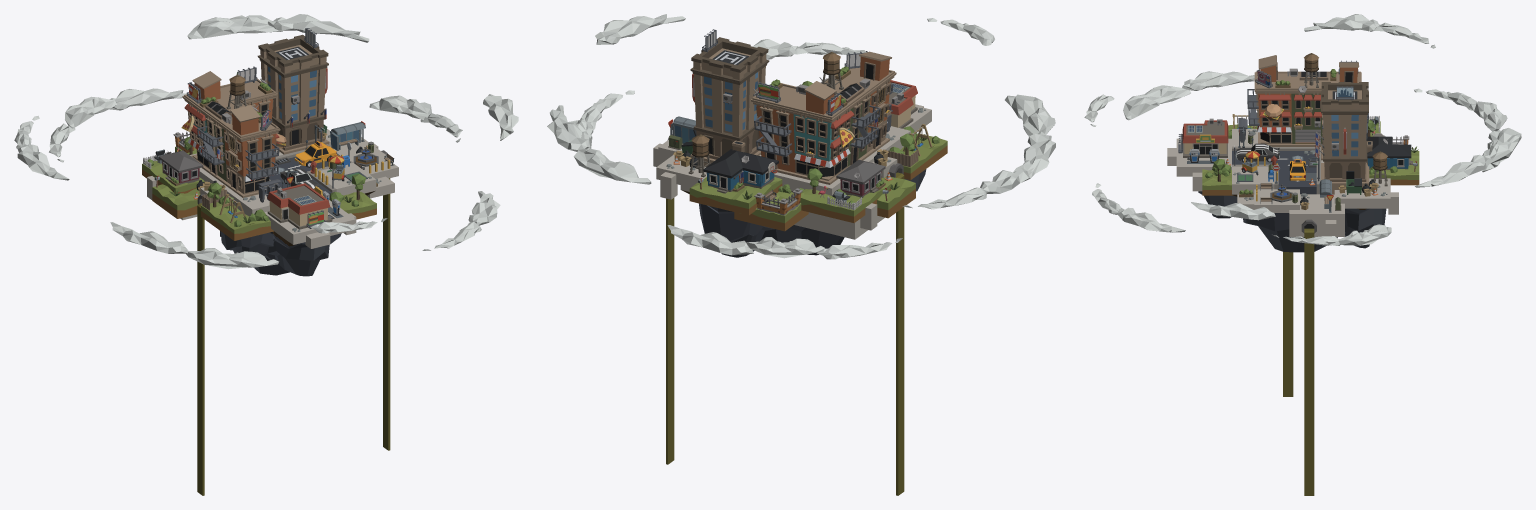
Rendered from mini-city-pack-v1.glb.
3 views of the same model, side by side, from view 1: azimuth 30°, elevation 25°; view 2: azimuth 150°, elevation 25°; view 3: azimuth 270°, elevation 25° (orthographic). The views are drawn at different scales.
Visible parts, largest first — view 1: IslandFab_PolygonMiniCity_01_0, clodu; view 2: IslandFab_PolygonMiniCity_01_0, clodu, IslandFab_PolygonMiniCity_01_Blue_0; view 3: IslandFab_PolygonMiniCity_01_0, clodu, IslandFab_PolygonMiniCity_01_Blue_0.
Part boxes in pixels (<box>): IslandFab_PolygonMiniCity_01_0: <box>142,28,398,495</box>; clodu: <box>14,14,518,269</box>; IslandFab_PolygonMiniCity_01_0: <box>653,29,947,495</box>; clodu: <box>547,14,1055,259</box>; IslandFab_PolygonMiniCity_01_Blue_0: <box>703,140,778,193</box>; IslandFab_PolygonMiniCity_01_0: <box>1167,53,1419,495</box>; clodu: <box>1084,14,1521,245</box>; IslandFab_PolygonMiniCity_01_Blue_0: <box>1366,136,1412,169</box>.
Size of the model in its own units: 49.01 by 45 by 46.51.
Materials: 2 (2 with a texture image).
